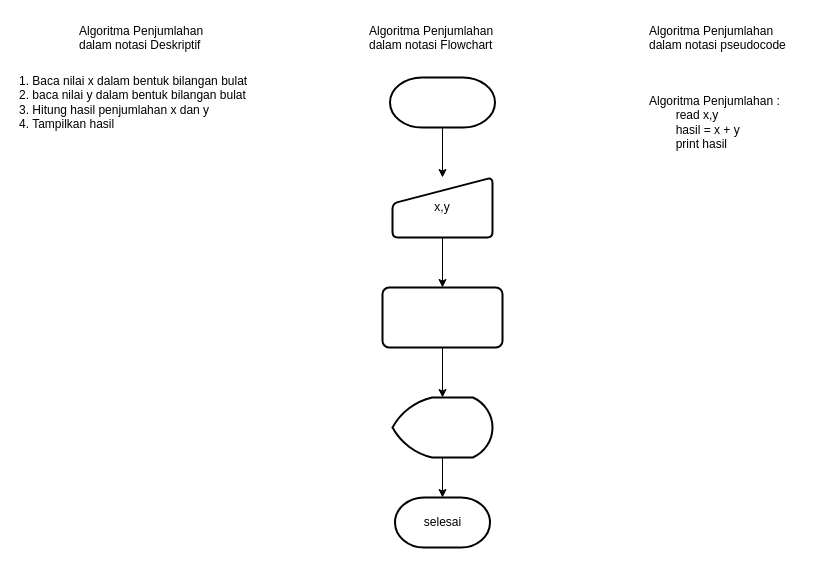
This 814x565 diagram has some shape labels left out. The shapes that lost their labels are listed below. From the top down, each one's box as (x1, y1, x2, y2) in pixels, then its label:
(388, 76, 496, 128): mulai
(381, 286, 503, 348): hasil = x + y
(391, 396, 493, 458): hasil
